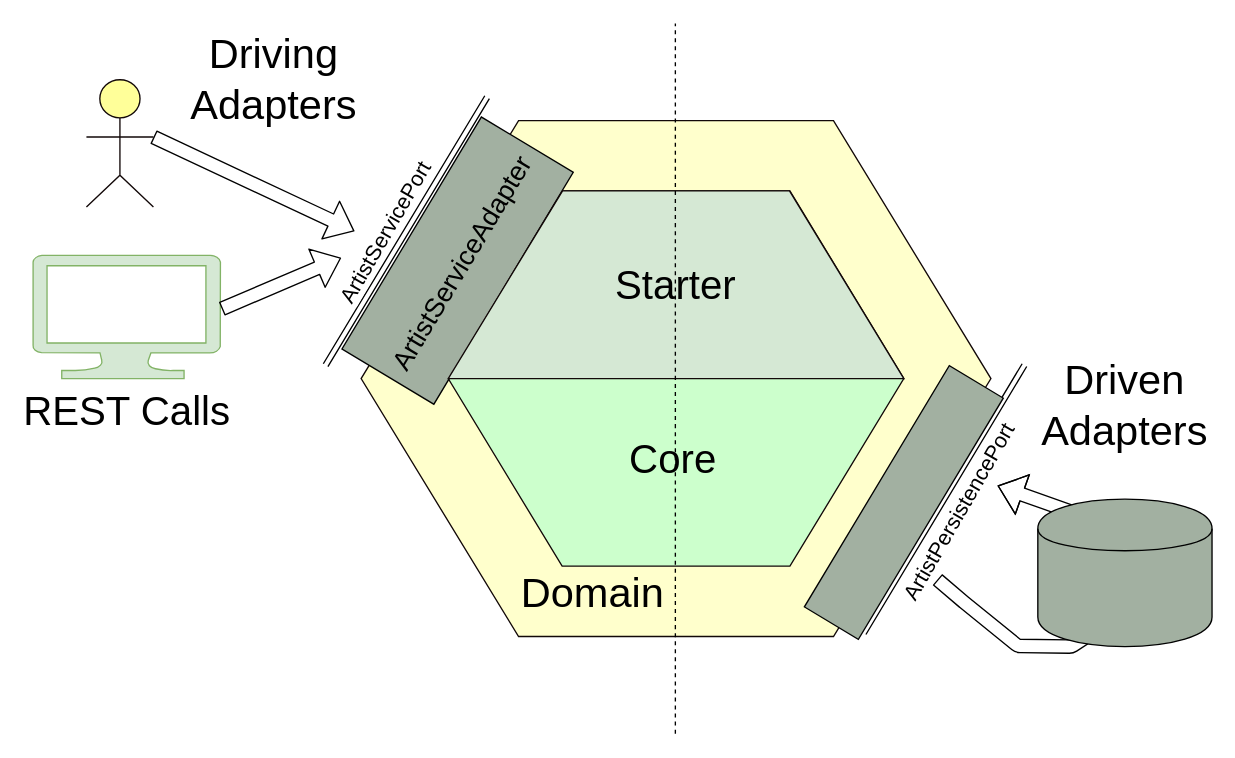
Some shapes in this 1235 by 758 pixel diagram are drawn without their labels. The centre of each missing label's shape, as x and y in pixels:
"Artist" belongs at pixel 1124 572.
"ArtistJpaAdapter" belongs at pixel 903 502.
